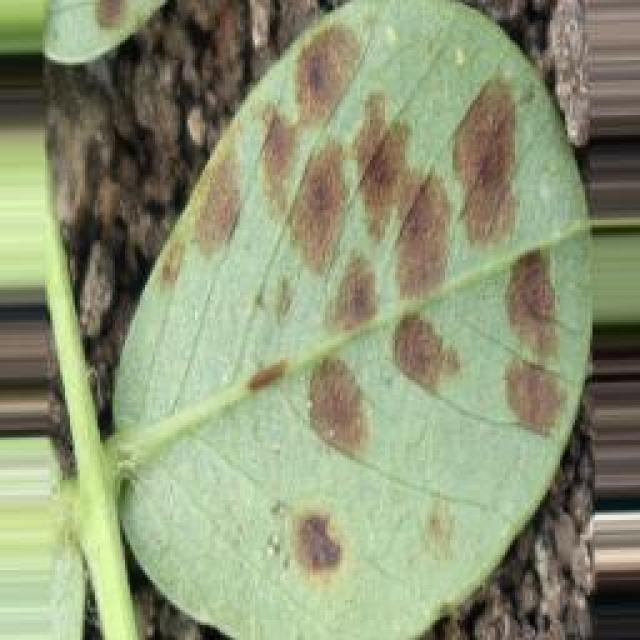Whitefly: (163, 0, 610, 593)
